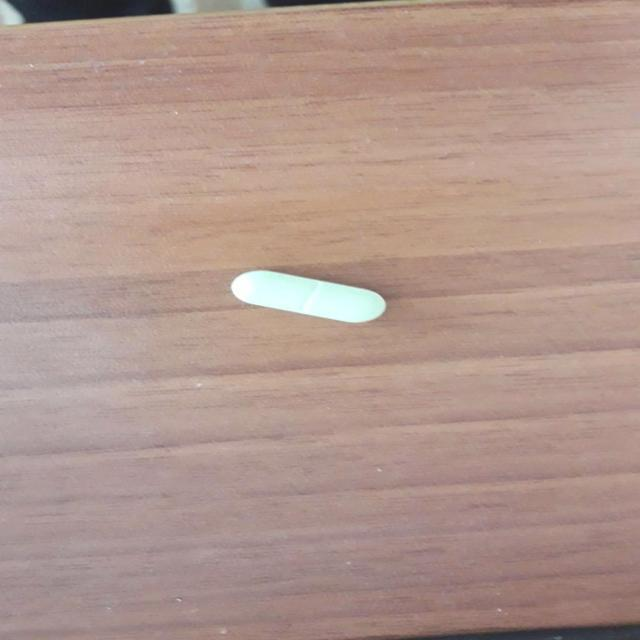pill: (232, 266, 390, 328)
